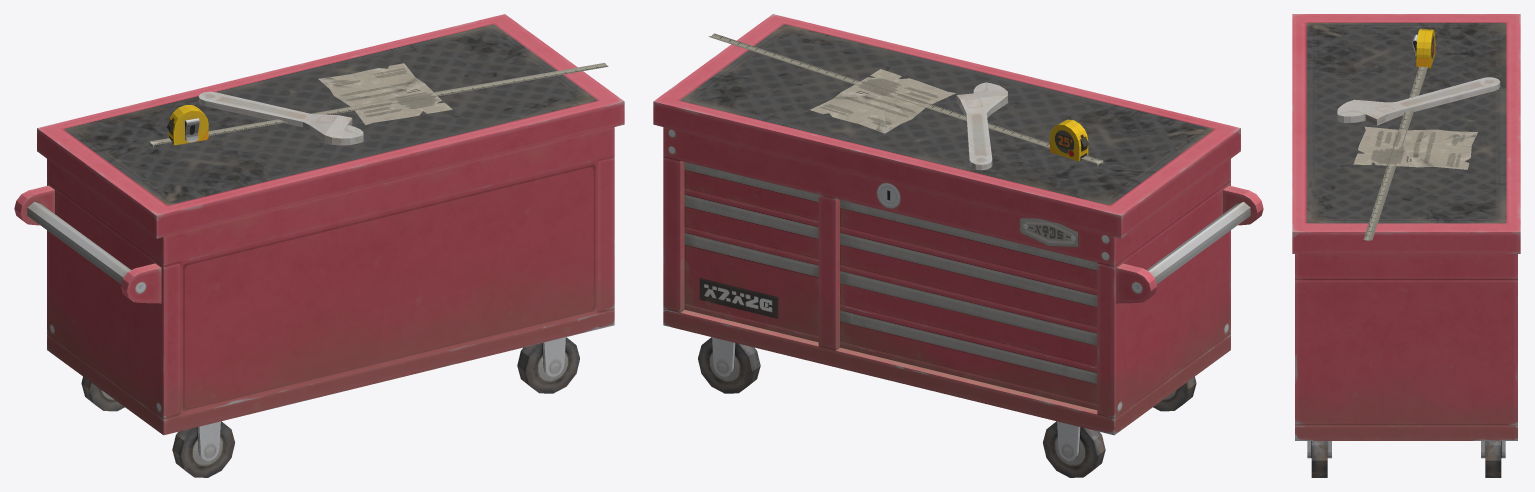
Rendered from P_Toolbox_009_S1_M01.obj.
3 renders of one model, left to right at view 1: azimuth 30°, elevation 25°; view 2: azimuth 150°, elevation 25°; view 3: azimuth 270°, elevation 25°, orthographic. The views are drawn at different scales.
Size of the model in its own units: 2 by 1.17 by 0.8022.
5 materials, 5 textured.
